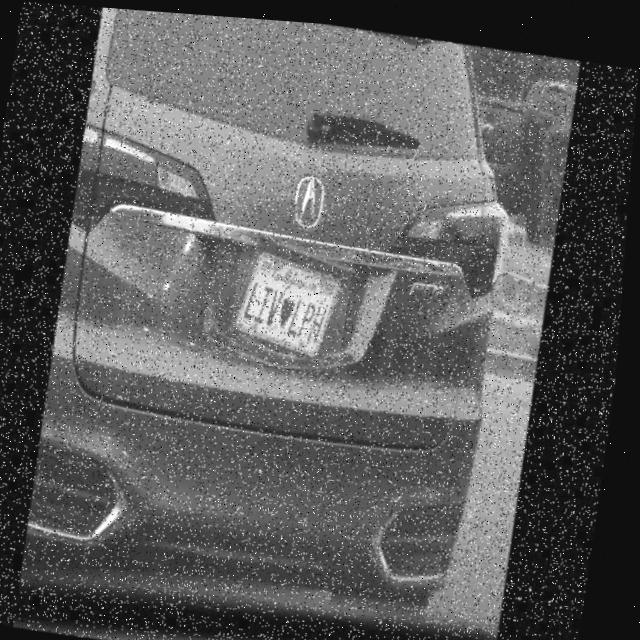LicensePlate: (230, 233, 358, 368)
